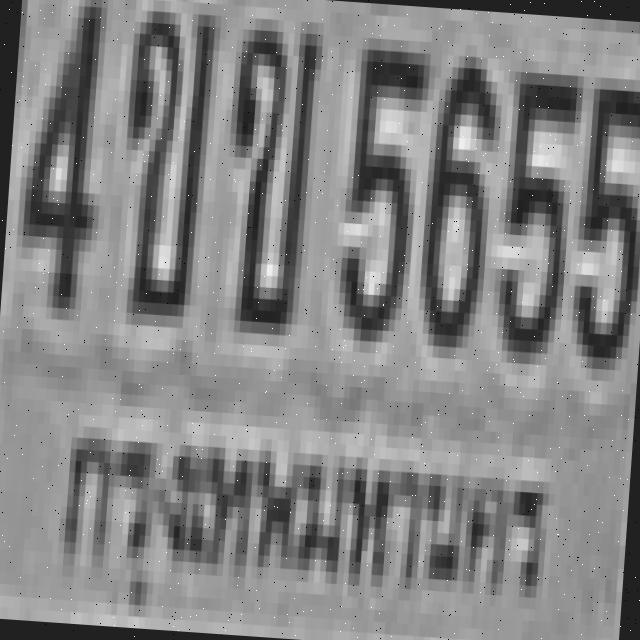11KhorKhai: (110, 0, 216, 305), (217, 17, 318, 324)
4: (12, 0, 102, 297)
5: (330, 36, 426, 332), (489, 59, 578, 354), (566, 64, 640, 359)
6: (414, 42, 496, 337)
Bangkok: (41, 403, 559, 640)
